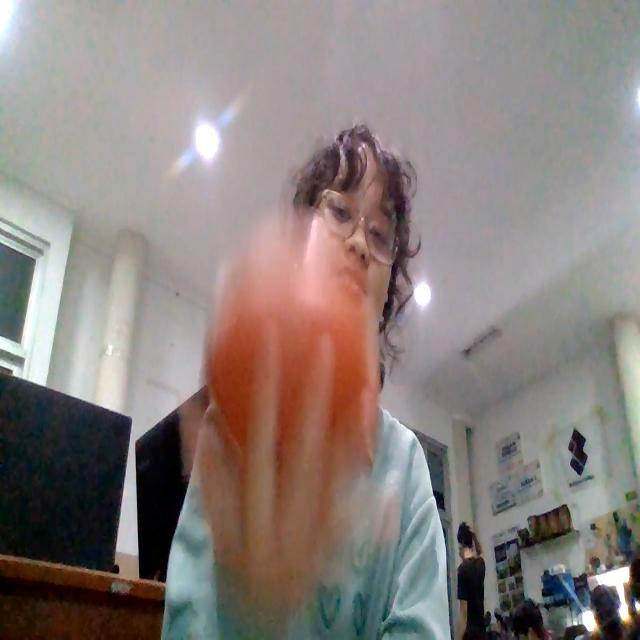ball: (214, 249, 369, 446)
